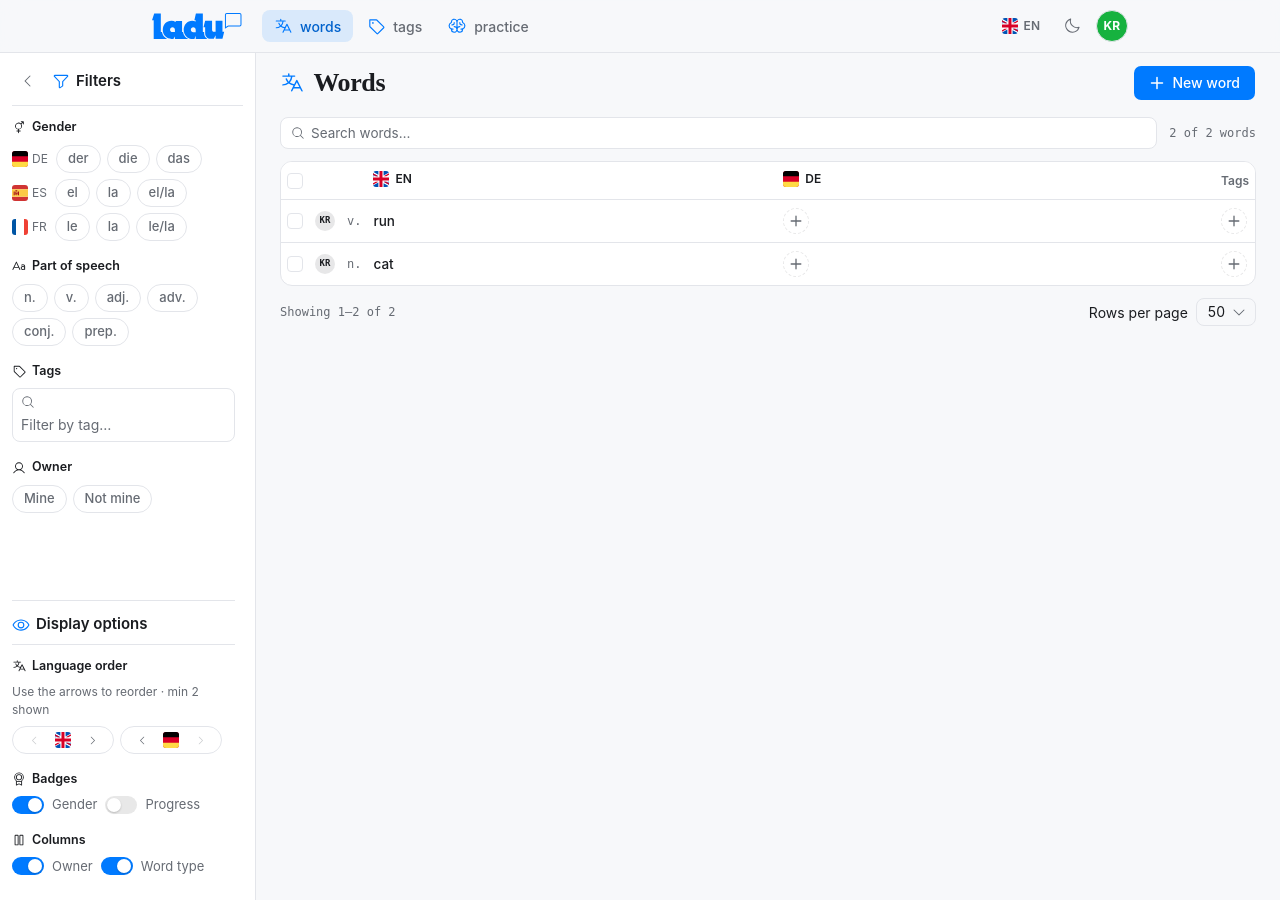
Test: ReviewPage — Slice 7: filter bar writes the URL › a PoS chip click reaches the request and narrows the list
The width and height of the screenshot is (1280, 900).
Expected: the button "cat" is shown, [370,252,398,276]
Expected: the button "run" is shown, [370,209,399,233]
Click the button "n." at (30, 298), box [12,284,48,312]
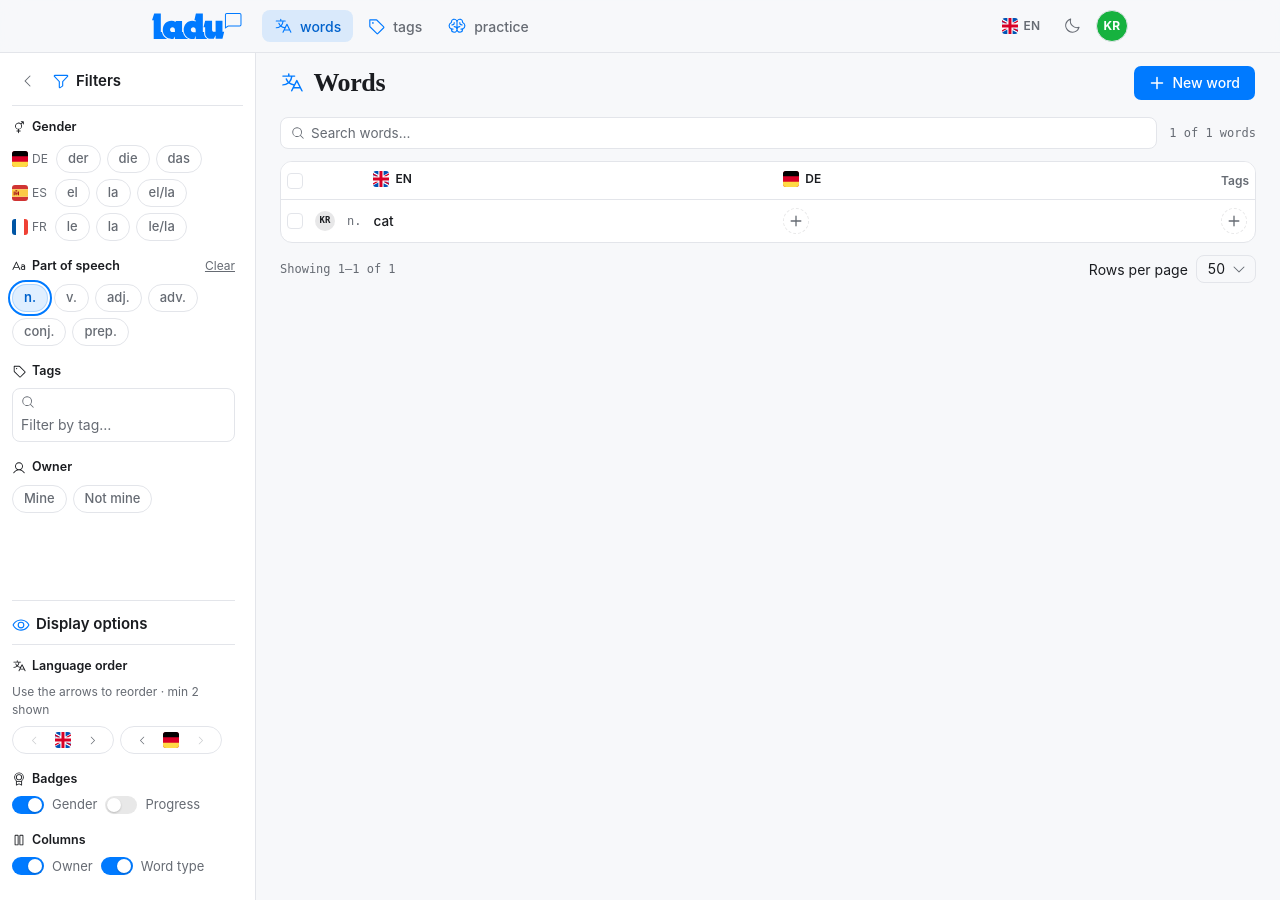
Expected: the button "cat" is shown, [370,209,398,233]
Expected: the button "run" is gone
